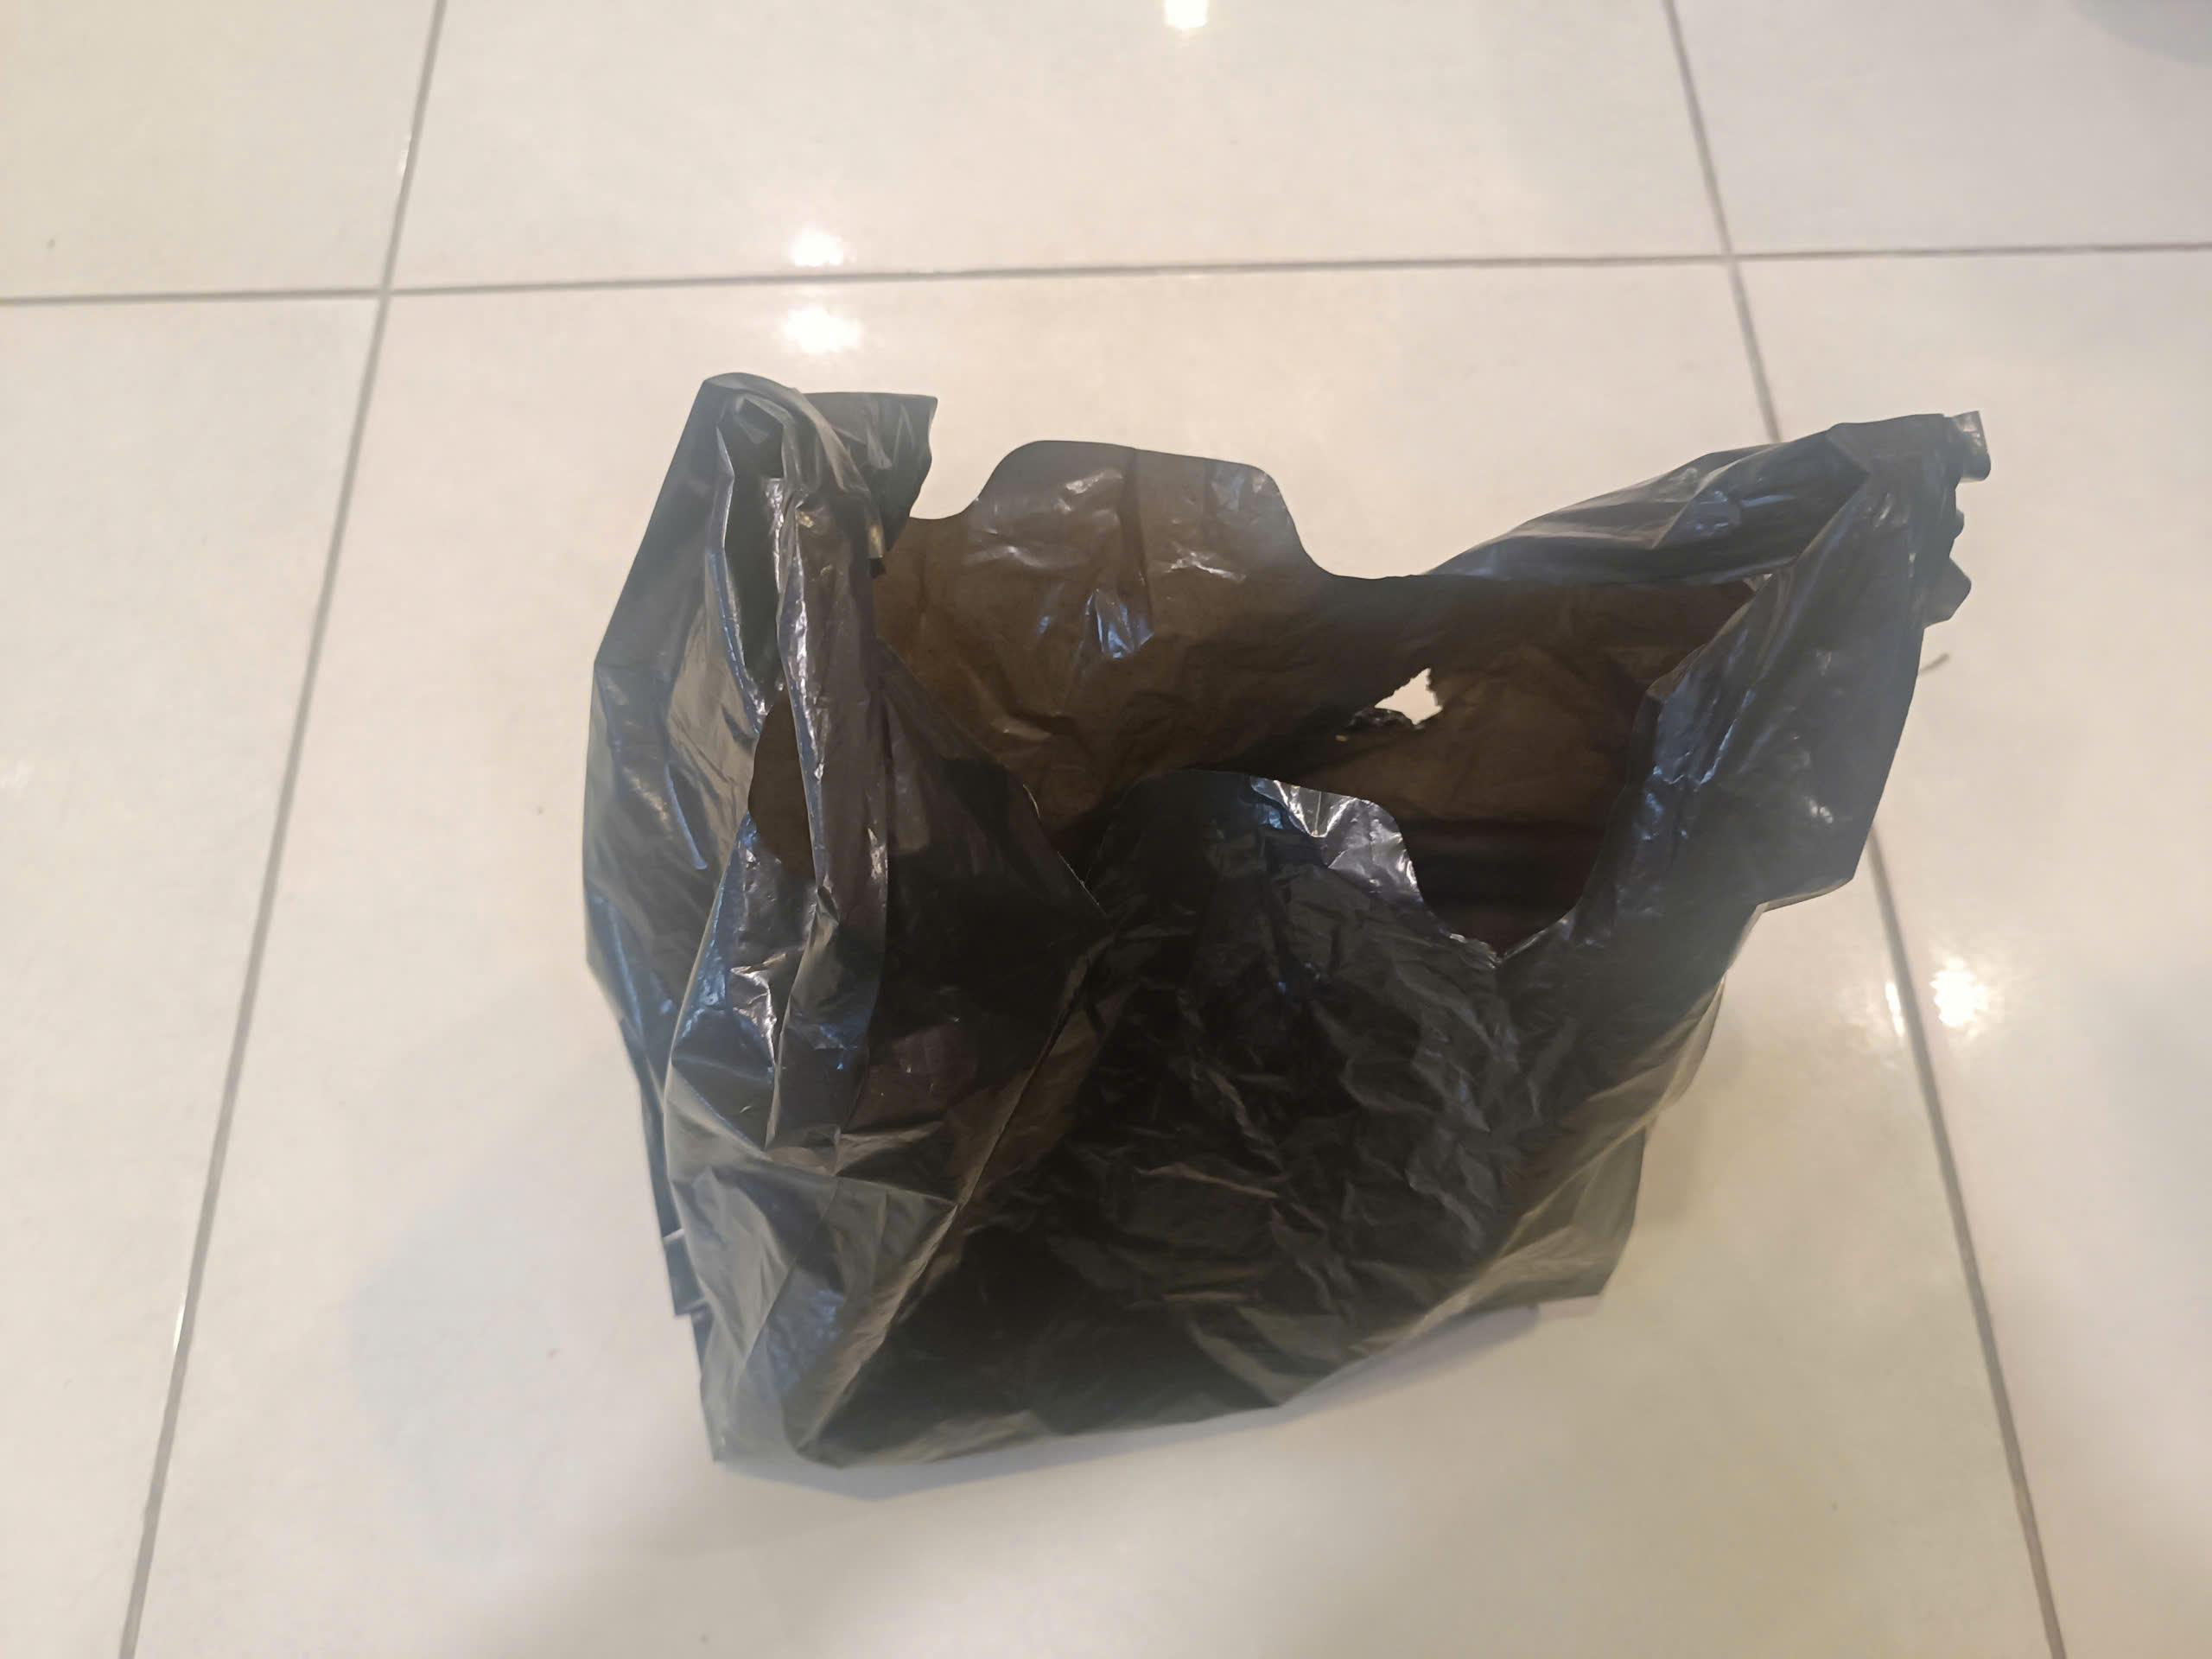Vo co: (576, 364, 1993, 1471)
